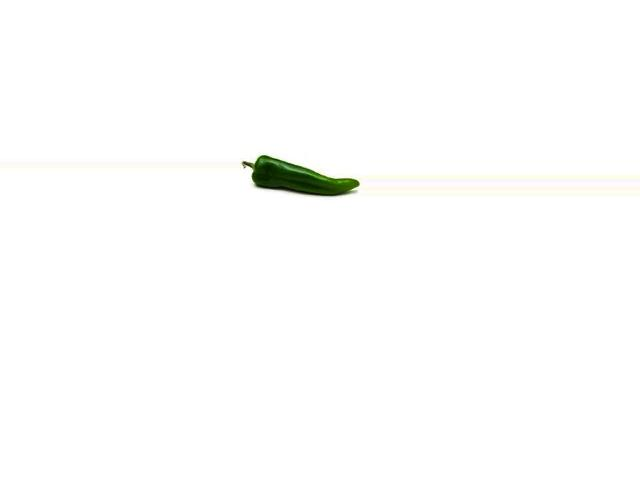bell_pepper: (237, 153, 359, 198)
